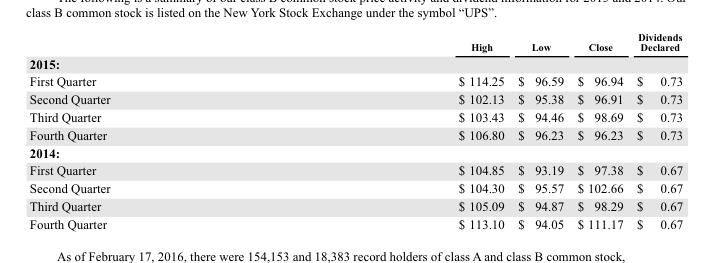table: (28, 29, 682, 232)
table column: (28, 29, 283, 232), (283, 29, 510, 232), (569, 29, 629, 232), (510, 29, 569, 232), (629, 29, 682, 232)
table column header: (28, 29, 682, 53)
table projected row header: (28, 53, 682, 71), (28, 143, 682, 160)
table row: (28, 29, 682, 53), (28, 53, 682, 71), (28, 71, 682, 89), (28, 89, 682, 107), (28, 107, 682, 125), (28, 125, 682, 143), (28, 160, 682, 178), (28, 178, 682, 196), (28, 196, 682, 214), (28, 214, 682, 232), (28, 143, 682, 160)
